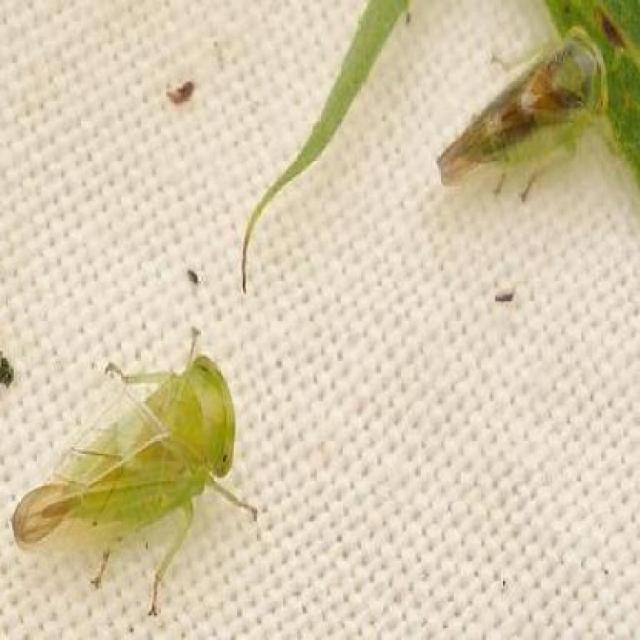green-leafhopper: (17, 323, 254, 614), (438, 18, 610, 210)
